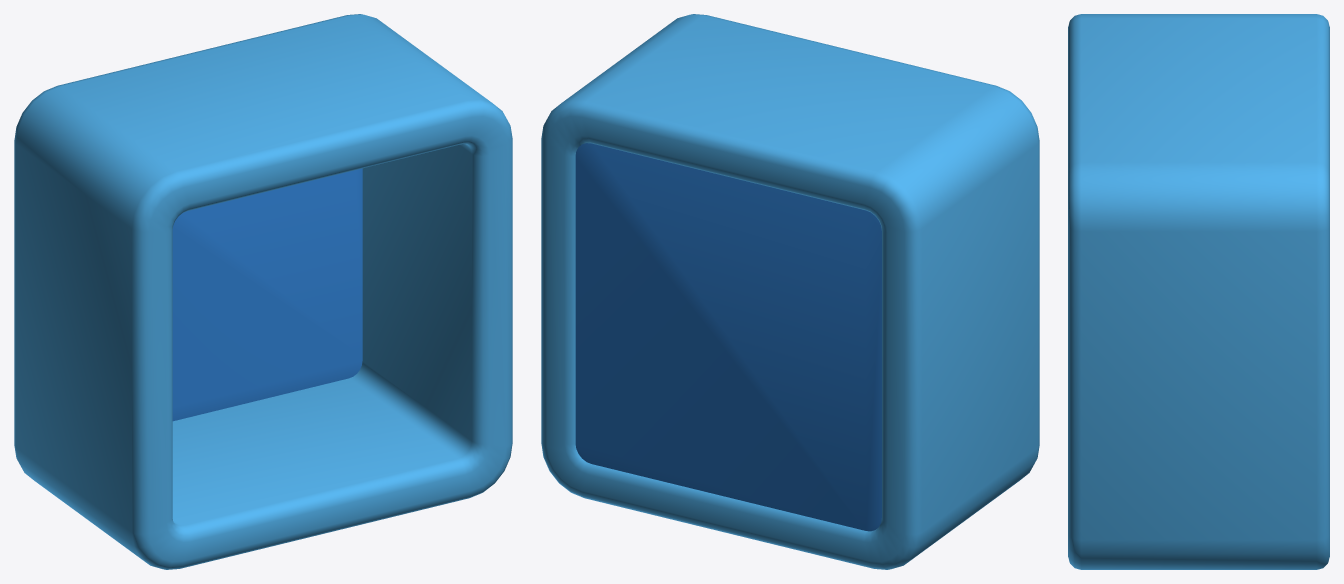
File: nicho_cubo_azul.glb
3 views of the same model, side by side, from view 1: azimuth 30°, elevation 25°; view 2: azimuth 150°, elevation 25°; view 3: azimuth 270°, elevation 25° (orthographic).
Parts seen in each view (by area): view 1: nicho_cubo_azul; view 2: nicho_cubo_azul; view 3: nicho_cubo_azul.
Boxes of the visible parts, left/top/right/bottom form: nicho_cubo_azul: left=14, top=14, right=512, bottom=569; nicho_cubo_azul: left=541, top=14, right=1039, bottom=569; nicho_cubo_azul: left=1068, top=14, right=1329, bottom=569.
Size of the model in its own units: 0.34 by 0.34 by 0.2.
Materials: 1 (1 with a texture image).
